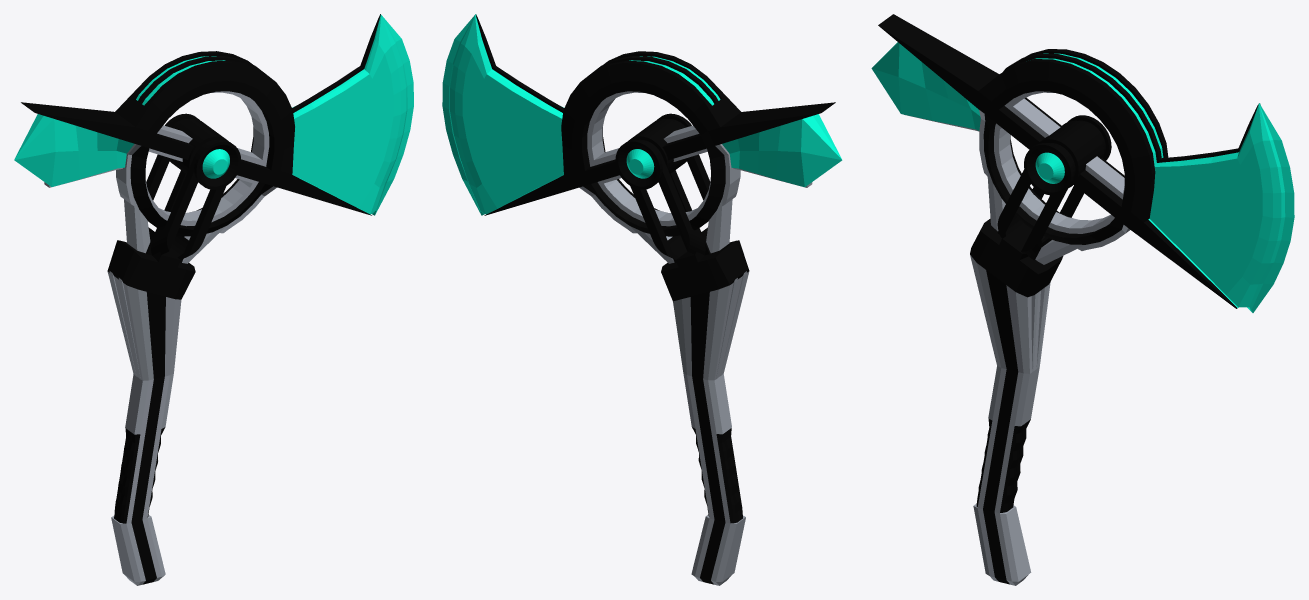
File: Axe 4 Fagerone.fbx
3 views of the same model, side by side, from view 1: azimuth 30°, elevation 25°; view 2: azimuth 150°, elevation 25°; view 3: azimuth 330°, elevation 25° (orthographic). The views are drawn at different scales.
Visible parts, largest first — view 1: Cylinder.001; view 2: Cylinder.001; view 3: Cylinder.001.
Boxes of the visible parts, bbox=[...] form: Cylinder.001: bbox=[14, 14, 413, 585]; Cylinder.001: bbox=[442, 14, 842, 585]; Cylinder.001: bbox=[871, 14, 1294, 585].
Size of the model in its own units: 3.14 by 3.82 by 0.5643.
2 materials, 2 textured.
